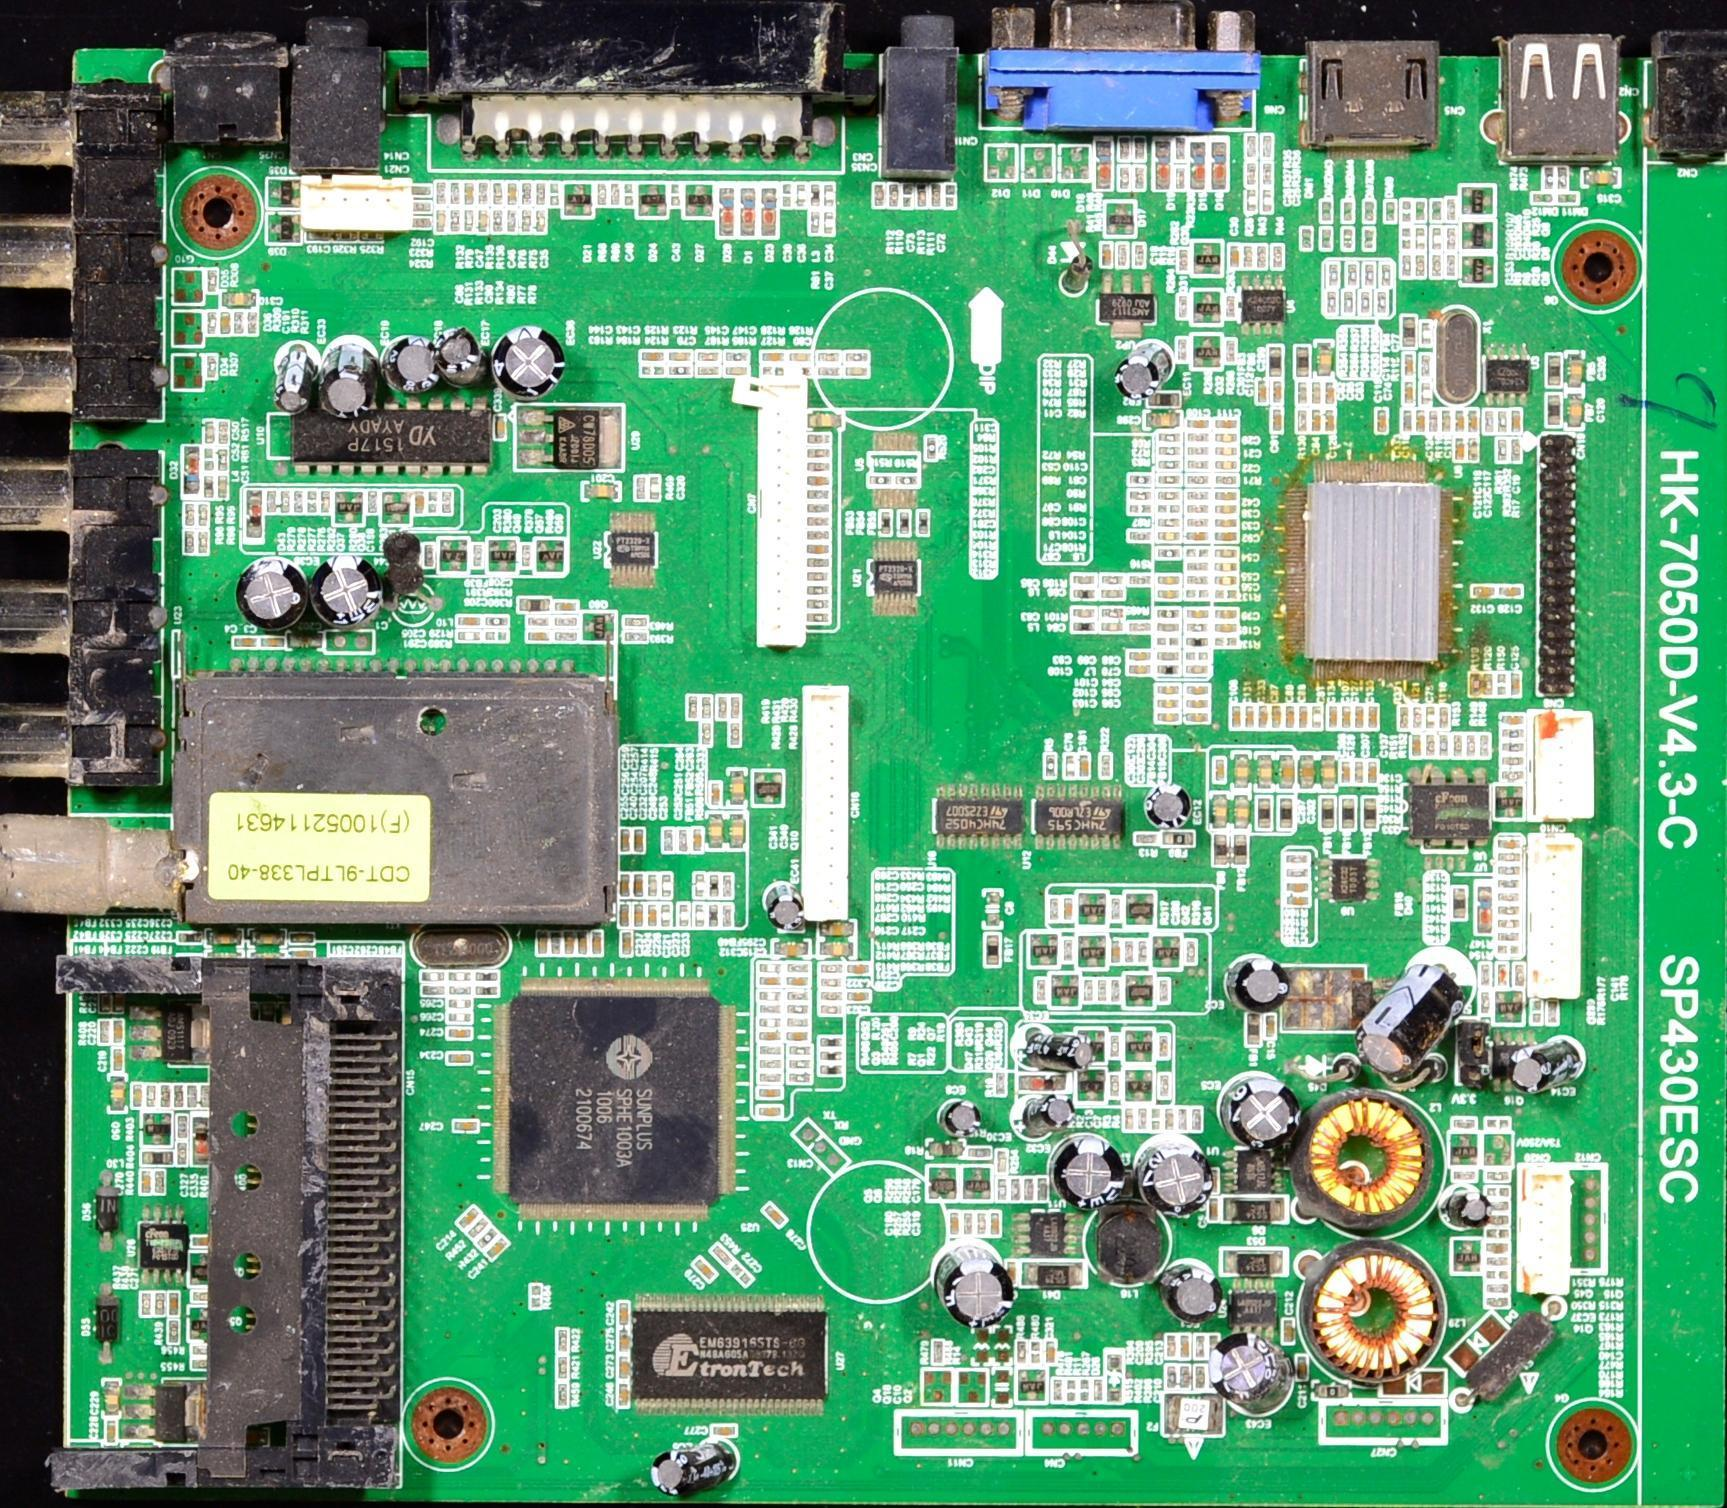Capacitor: (729, 773, 741, 801), (830, 940, 855, 954), (252, 932, 281, 943), (1263, 1015, 1275, 1037), (1283, 761, 1293, 788), (1470, 586, 1490, 597), (728, 1264, 744, 1279), (618, 1360, 628, 1381), (1226, 340, 1236, 363), (455, 1118, 474, 1129), (444, 1054, 468, 1063), (226, 293, 251, 303), (1572, 358, 1580, 383), (766, 1210, 783, 1223), (943, 185, 953, 205), (710, 822, 719, 841), (618, 876, 628, 895), (1285, 1322, 1294, 1343), (1323, 346, 1331, 373), (1428, 706, 1436, 728), (1236, 760, 1245, 782), (1259, 761, 1267, 783), (493, 415, 501, 440), (1246, 192, 1255, 210), (1501, 585, 1518, 595), (234, 637, 254, 646), (1353, 705, 1362, 726), (1215, 762, 1225, 779), (1365, 765, 1375, 782), (620, 830, 630, 847), (292, 933, 310, 942), (781, 941, 799, 952), (846, 966, 866, 975), (1298, 1355, 1305, 1379), (1324, 759, 1332, 782), (1287, 883, 1316, 889), (450, 1028, 469, 1036), (759, 1105, 778, 1114), (106, 1423, 114, 1442), (668, 353, 687, 361), (1255, 380, 1264, 400), (1468, 442, 1477, 461), (530, 632, 549, 640), (264, 637, 283, 646), (1062, 902, 1070, 920), (537, 933, 547, 952), (562, 935, 571, 955), (1403, 413, 1412, 429), (1409, 736, 1419, 752), (1148, 1107, 1156, 1129), (618, 1302, 625, 1324), (1180, 1334, 1188, 1356), (204, 421, 212, 443), (694, 829, 702, 852), (826, 923, 848, 931), (451, 1002, 469, 1010), (450, 1013, 467, 1022), (694, 1264, 708, 1276), (1231, 247, 1239, 265), (1177, 340, 1185, 359), (459, 632, 477, 640), (1326, 707, 1335, 724), (1217, 802, 1226, 820), (1498, 966, 1507, 984), (713, 1427, 734, 1434), (465, 182, 473, 202), (826, 215, 832, 235), (1080, 756, 1087, 777), (622, 934, 630, 954), (791, 1031, 808, 1040), (462, 1206, 471, 1222), (559, 601, 576, 609), (950, 1214, 957, 1233), (1047, 1341, 1054, 1360), (509, 184, 517, 202), (549, 186, 556, 206), (1102, 244, 1109, 263), (1073, 578, 1092, 586), (458, 617, 477, 624), (1272, 707, 1279, 725), (1238, 803, 1245, 823), (730, 821, 737, 840), (108, 1385, 115, 1408), (1513, 672, 1519, 696), (1163, 1110, 1171, 1127), (141, 1172, 148, 1189), (991, 1213, 999, 1231), (1491, 1244, 1508, 1251), (494, 1241, 501, 1258), (1595, 172, 1610, 180), (413, 185, 430, 193), (825, 188, 833, 205), (1417, 229, 1424, 246), (1402, 353, 1409, 374), (1572, 403, 1579, 420), (1272, 414, 1281, 429), (1304, 760, 1310, 782), (1353, 764, 1360, 781), (1498, 842, 1516, 848), (648, 910, 657, 925), (579, 933, 584, 955), (1112, 936, 1117, 958), (783, 185, 788, 205), (1157, 592, 1178, 598), (1194, 683, 1205, 693), (594, 931, 599, 952), (621, 1334, 628, 1349), (621, 1388, 629, 1404), (902, 182, 909, 198), (1310, 385, 1317, 401), (1416, 411, 1423, 427), (1215, 419, 1231, 426), (1315, 417, 1322, 433), (810, 546, 827, 553), (1218, 549, 1233, 557), (1230, 707, 1238, 723), (170, 1294, 176, 1313), (623, 186, 628, 205), (1263, 193, 1269, 211), (480, 211, 486, 230), (790, 354, 809, 360), (726, 368, 745, 375), (1297, 383, 1303, 403), (1157, 577, 1176, 583), (712, 786, 718, 804), (848, 369, 862, 376), (1442, 412, 1450, 428), (1219, 432, 1234, 439), (1219, 573, 1234, 580), (1076, 607, 1091, 614), (1502, 713, 1517, 721), (1190, 715, 1204, 722), (1220, 624, 1231, 634), (220, 476, 226, 493), (1103, 590, 1120, 596), (1315, 708, 1320, 725), (637, 876, 643, 894), (1154, 414, 1168, 422), (1219, 505, 1232, 512), (1189, 652, 1203, 660), (1130, 667, 1143, 674), (634, 832, 642, 846), (1433, 230, 1439, 247), (1273, 382, 1279, 398), (415, 496, 422, 512), (1159, 653, 1175, 659), (1289, 897, 1305, 903), (634, 907, 640, 924), (623, 907, 629, 924), (135, 1083, 140, 1104), (1066, 755, 1070, 775), (1208, 1335, 1216, 1347), (798, 186, 803, 201), (437, 213, 444, 228), (1324, 387, 1331, 402), (1511, 412, 1517, 428), (1186, 419, 1201, 424), (1222, 445, 1233, 452), (811, 479, 826, 485), (1220, 491, 1235, 497), (1166, 535, 1180, 541), (1217, 610, 1229, 616), (1191, 611, 1202, 618), (1103, 623, 1117, 629), (1131, 654, 1146, 659), (1191, 699, 1205, 705), (1249, 708, 1255, 723), (1342, 765, 1348, 780), (788, 976, 804, 982), (116, 1049, 121, 1067), (1407, 383, 1411, 403), (116, 1022, 121, 1039), (762, 1033, 775, 1039), (763, 1089, 777, 1095), (1379, 413, 1384, 430), (1456, 443, 1461, 457), (1161, 686, 1175, 692), (1260, 710, 1266, 724), (763, 978, 781, 983), (1224, 520, 1234, 527), (223, 316, 227, 332), (1300, 709, 1304, 725), (1288, 709, 1293, 726), (1219, 563, 1230, 568), (852, 992, 864, 999), (644, 354, 660, 359), (1344, 710, 1348, 725), (1192, 532, 1203, 538), (1223, 533, 1234, 539), (1458, 414, 1463, 428), (1471, 413, 1474, 431), (1371, 707, 1375, 726), (1220, 462, 1232, 467), (297, 951, 309, 956), (763, 355, 780, 359), (1164, 716, 1175, 721), (1328, 416, 1331, 428), (1191, 666, 1202, 670), (1163, 700, 1172, 703)
IC: (511, 1004, 717, 1200), (1311, 486, 1435, 661), (641, 1304, 827, 1400), (295, 412, 487, 469), (521, 407, 612, 463), (1412, 788, 1474, 835), (1035, 804, 1122, 831), (946, 800, 1014, 830), (1026, 1214, 1067, 1251), (146, 1226, 179, 1267), (1096, 295, 1149, 318), (1243, 291, 1284, 319), (1235, 1290, 1269, 1322), (1333, 863, 1362, 898), (874, 566, 913, 589), (611, 534, 648, 559), (1239, 1154, 1269, 1184), (1494, 359, 1520, 389), (587, 484, 614, 498)
Resistor: (993, 1076, 1004, 1096), (660, 833, 671, 851), (711, 1245, 726, 1260), (1118, 140, 1128, 160), (1116, 244, 1126, 265), (218, 423, 227, 443), (182, 505, 192, 526), (472, 544, 482, 564), (206, 354, 214, 377), (688, 697, 697, 717), (1109, 1035, 1116, 1061), (145, 1153, 167, 1161), (676, 830, 684, 851), (1481, 965, 1489, 986), (1512, 965, 1522, 986), (1129, 532, 1145, 543), (1547, 1003, 1555, 1023), (1108, 1073, 1117, 1091), (611, 185, 619, 206), (197, 505, 205, 525), (557, 633, 577, 641), (729, 697, 739, 715), (1000, 1147, 1008, 1171), (1485, 1116, 1504, 1125), (1272, 246, 1281, 266), (807, 435, 827, 443), (732, 726, 740, 744), (720, 877, 729, 896), (677, 905, 686, 923), (1116, 170, 1127, 187), (450, 184, 457, 205), (522, 184, 528, 205), (1243, 245, 1249, 267), (248, 312, 256, 333), (1480, 739, 1488, 761), (1011, 1180, 1019, 1198), (1488, 1199, 1505, 1208), (412, 219, 430, 228), (790, 369, 808, 377), (1484, 414, 1493, 431), (622, 617, 641, 625), (715, 697, 724, 715), (476, 974, 493, 982), (1055, 1379, 1062, 1399), (484, 632, 505, 639), (723, 906, 730, 926), (450, 969, 470, 976), (1038, 981, 1045, 1001), (1455, 1119, 1471, 1127), (1487, 1284, 1504, 1292), (1193, 1369, 1201, 1385), (143, 1083, 150, 1103), (1125, 1111, 1132, 1130), (177, 1117, 185, 1136), (154, 1173, 162, 1193), (1037, 1180, 1044, 1199), (934, 1340, 942, 1359), (1134, 140, 1141, 159), (1247, 164, 1254, 184), (437, 183, 445, 202), (875, 183, 882, 203), (1329, 267, 1337, 286), (928, 437, 935, 456), (281, 493, 288, 512), (1497, 906, 1516, 913), (1181, 520, 1204, 526), (1488, 1187, 1505, 1194), (963, 1213, 970, 1230), (975, 1216, 984, 1231), (1488, 1270, 1505, 1277), (168, 1322, 173, 1344), (558, 1360, 565, 1377), (1135, 168, 1142, 185), (1557, 168, 1564, 185), (493, 185, 501, 202), (1259, 247, 1266, 265), (1434, 256, 1441, 273), (1415, 256, 1421, 277), (1382, 265, 1389, 282), (698, 370, 720, 376), (487, 617, 505, 624), (529, 618, 546, 625), (1132, 623, 1147, 631), (622, 633, 640, 640), (663, 876, 669, 894), (662, 905, 668, 927), (790, 994, 807, 1001), (1451, 1173, 1471, 1179), (562, 1329, 568, 1350), (1167, 1336, 1173, 1357), (509, 210, 515, 230), (815, 368, 835, 375), (808, 492, 828, 498), (269, 490, 274, 511), (320, 490, 326, 511), (1101, 755, 1108, 775), (694, 905, 701, 925), (760, 961, 773, 970), (1108, 980, 1113, 1000), (786, 1016, 802, 1024), (792, 1045, 808, 1053), (791, 1059, 807, 1066), (200, 1089, 207, 1105), (969, 1147, 986, 1154), (1491, 1298, 1506, 1305), (1248, 139, 1255, 155), (521, 213, 528, 229), (1447, 230, 1454, 246), (207, 270, 214, 286), (1345, 295, 1352, 311), (728, 354, 744, 361), (1112, 902, 1119, 917), (1186, 943, 1194, 959), (1122, 944, 1130, 960), (1222, 592, 1235, 600), (1180, 1109, 1186, 1128), (1033, 1341, 1038, 1360), (1169, 1366, 1175, 1385), (1178, 1366, 1184, 1384), (480, 186, 486, 205), (929, 187, 936, 206), (534, 212, 541, 231), (1136, 246, 1143, 266), (1447, 256, 1453, 275), (1365, 264, 1370, 284), (1346, 264, 1352, 284), (1424, 325, 1431, 343), (641, 370, 660, 376), (294, 493, 299, 512), (1129, 506, 1148, 512), (426, 545, 432, 564), (703, 697, 709, 717), (698, 875, 704, 894), (649, 878, 655, 897), (427, 988, 452, 993), (180, 1147, 188, 1162), (412, 201, 428, 208), (1184, 562, 1199, 570), (1498, 892, 1513, 898), (1097, 983, 1104, 997), (761, 1059, 778, 1065), (1163, 1071, 1167, 1094), (1136, 1110, 1142, 1128), (1192, 1112, 1198, 1129), (142, 1295, 149, 1313), (1017, 1342, 1023, 1359), (1092, 1381, 1098, 1400), (885, 186, 892, 204), (494, 212, 500, 229), (811, 213, 817, 231), (1402, 230, 1409, 248), (431, 495, 436, 512), (523, 546, 529, 564), (554, 618, 571, 624), (1473, 675, 1479, 693), (704, 726, 710, 743), (1504, 744, 1521, 751), (826, 1007, 839, 1014), (1512, 443, 1520, 457), (1160, 519, 1173, 525), (810, 572, 824, 580), (1130, 575, 1143, 583), (1189, 590, 1202, 597), (1505, 729, 1519, 735), (1500, 880, 1513, 887), (789, 966, 802, 973), (763, 994, 785, 999), (762, 1045, 778, 1052), (188, 1088, 194, 1104), (1491, 1173, 1506, 1179), (1081, 1380, 1086, 1396), (1068, 1383, 1073, 1400), (1265, 139, 1271, 155), (1447, 200, 1452, 216), (847, 355, 863, 361), (1422, 358, 1427, 375), (221, 451, 226, 467), (444, 493, 450, 509), (809, 506, 825, 512), (197, 534, 202, 551), (1482, 673, 1487, 688), (1136, 835, 1153, 841), (1500, 854, 1516, 860), (1137, 946, 1142, 962), (1086, 983, 1093, 999), (820, 994, 836, 1000), (473, 1223, 481, 1234), (533, 1285, 538, 1305), (599, 185, 604, 205), (1163, 489, 1172, 499), (1047, 755, 1051, 775), (552, 933, 556, 953), (820, 968, 840, 972), (761, 1072, 776, 1078), (160, 1086, 166, 1101), (155, 1297, 161, 1311), (192, 1344, 204, 1351), (562, 1388, 568, 1403), (1264, 166, 1270, 181), (1363, 296, 1368, 311), (209, 315, 214, 330), (698, 352, 712, 359), (762, 369, 777, 374), (1188, 448, 1203, 453), (1162, 509, 1174, 517), (811, 532, 825, 538), (812, 588, 824, 594), (810, 601, 822, 608), (1108, 610, 1119, 616), (1456, 736, 1461, 751), (1468, 736, 1474, 751), (1288, 851, 1303, 858), (173, 1087, 177, 1106), (1026, 1180, 1031, 1199), (1486, 1231, 1505, 1235), (537, 184, 542, 203), (1404, 257, 1409, 276), (817, 355, 835, 360), (306, 493, 310, 512), (1187, 507, 1206, 511), (1483, 994, 1488, 1011), (1487, 1258, 1505, 1263), (1546, 168, 1551, 185), (1329, 294, 1334, 311), (1379, 296, 1383, 314), (235, 313, 240, 331), (1424, 383, 1429, 401), (1157, 448, 1171, 454), (1189, 463, 1202, 469), (370, 495, 375, 513), (185, 533, 190, 550), (1102, 576, 1115, 582), (1498, 672, 1503, 690), (420, 973, 438, 978), (825, 981, 838, 986), (1491, 1217, 1507, 1222), (918, 187, 922, 203), (671, 370, 687, 374), (1190, 436, 1205, 441), (1498, 440, 1502, 456), (1442, 739, 1446, 754), (1505, 771, 1522, 776), (1500, 870, 1515, 873), (1287, 869, 1303, 874), (1502, 922, 1519, 926), (1502, 946, 1518, 951), (791, 1075, 804, 1081), (189, 1361, 201, 1367), (813, 616, 826, 623), (1163, 623, 1175, 629), (1159, 1037, 1163, 1052), (454, 213, 458, 228), (811, 521, 825, 525), (1442, 709, 1446, 724), (1431, 738, 1435, 753), (1505, 759, 1520, 763), (1052, 902, 1056, 916), (455, 985, 470, 989), (478, 988, 498, 991), (789, 1007, 802, 1011), (762, 1019, 775, 1024), (1501, 414, 1505, 427), (1163, 477, 1176, 482), (1157, 550, 1170, 555), (1001, 1180, 1005, 1198), (485, 1229, 488, 1246), (468, 212, 472, 229), (1162, 437, 1174, 442), (812, 465, 824, 470), (1132, 478, 1144, 483), (810, 561, 823, 566), (1191, 577, 1202, 582), (1188, 493, 1204, 497), (1135, 491, 1143, 496), (1503, 935, 1517, 939), (812, 453, 825, 457), (1220, 477, 1233, 480), (1189, 480, 1203, 483), (1163, 465, 1175, 468), (1198, 1336, 1200, 1355), (766, 1004, 776, 1007)
Transistor: (752, 768, 780, 801), (1456, 185, 1486, 215), (1125, 1024, 1152, 1057), (685, 184, 712, 215), (438, 539, 464, 569), (1496, 786, 1523, 815), (1191, 240, 1216, 270), (1192, 295, 1220, 322), (1106, 203, 1129, 234), (1192, 337, 1217, 365), (536, 544, 561, 571), (1153, 939, 1176, 967), (143, 1115, 166, 1142), (565, 183, 587, 213), (1084, 1029, 1105, 1059), (334, 492, 352, 522), (1456, 1240, 1474, 1269), (1127, 976, 1149, 1001), (965, 1170, 986, 1196), (494, 540, 512, 568), (1497, 997, 1520, 1019), (588, 614, 609, 636), (380, 496, 401, 520), (1455, 1135, 1471, 1165), (192, 1251, 209, 1280), (643, 180, 658, 213), (933, 1171, 951, 1194), (1084, 894, 1103, 918), (1033, 938, 1056, 957), (1057, 978, 1076, 1002), (1468, 226, 1488, 248), (1131, 1075, 1149, 1098), (190, 1310, 207, 1333), (1472, 259, 1489, 281), (1131, 898, 1146, 921), (1082, 1076, 1098, 1095), (1084, 941, 1097, 963)
